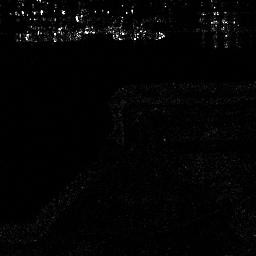ship: (15, 27, 82, 44), (111, 26, 167, 41)
